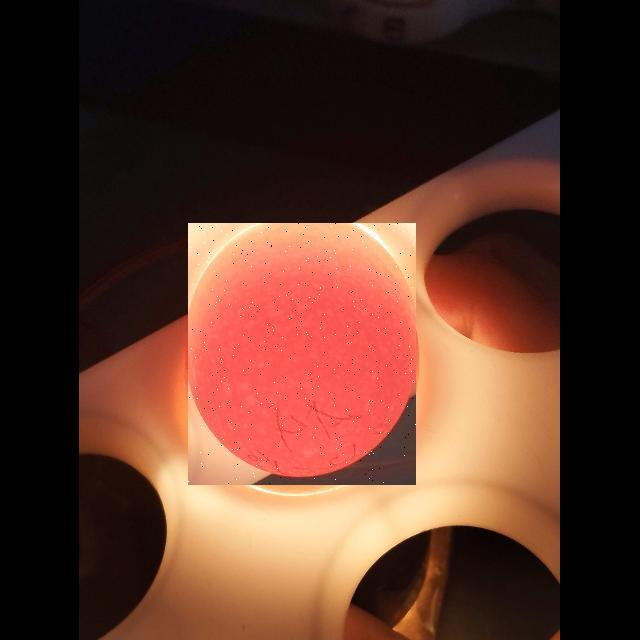Infertile: (188, 223, 416, 485)
